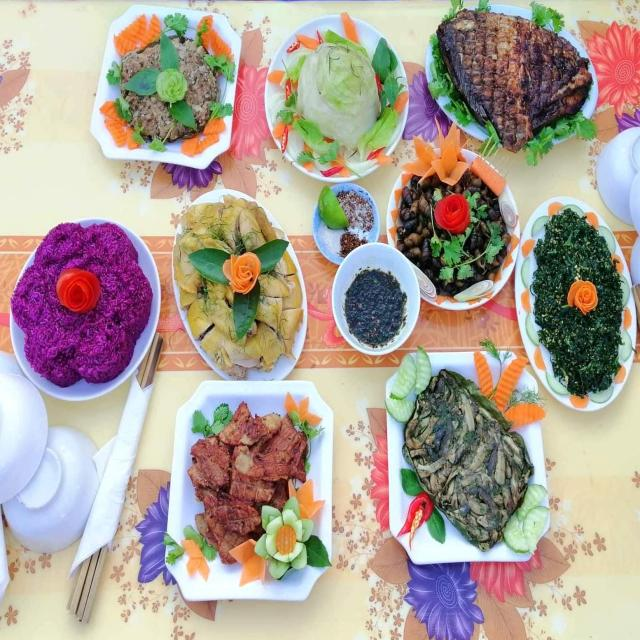bia: (167, 196, 304, 381)
oc hap: (398, 163, 513, 296)
xoi: (8, 218, 155, 389)
